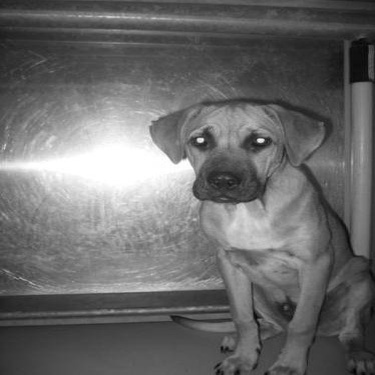dog: (130, 90, 370, 370)
